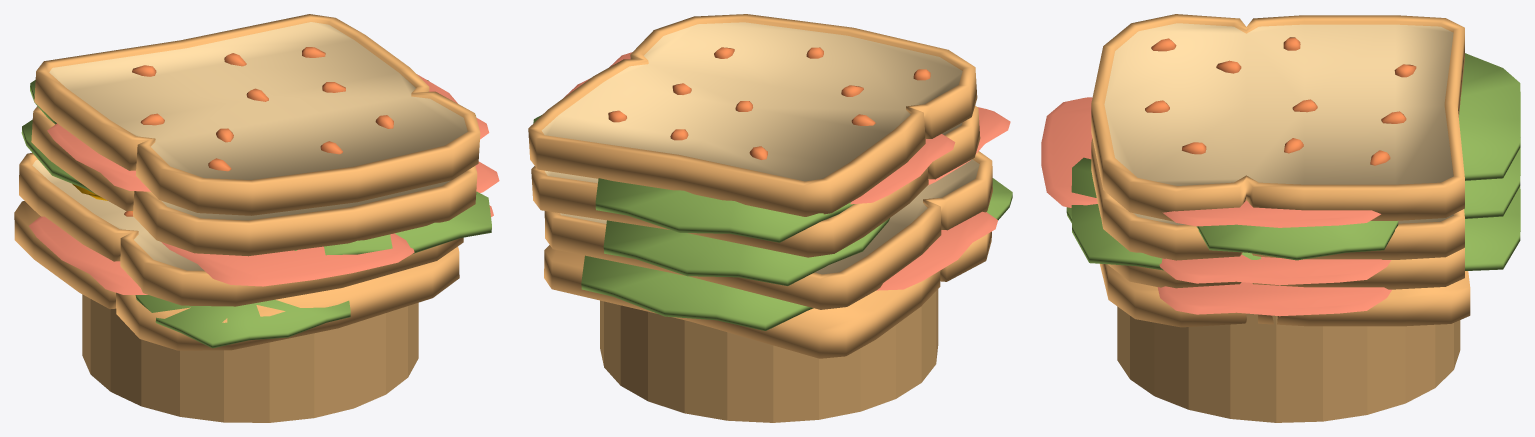
The model's file is kapa sendvic.fbx.
The picture shows the model from 3 angles, left to right: view 1: azimuth 30°, elevation 25°; view 2: azimuth 150°, elevation 25°; view 3: azimuth 270°, elevation 25°; orthographic projection. The views are drawn at different scales.
Visible parts, largest first — view 1: sesame_bread.003, Cylinder, sesame_bread.002, sesame_bread.001, flat_bread.001, leaf__1_.001, cream.002, leaf__1_.002, cream.001, cream.003, leaf.002, cream__1_.002; view 2: sesame_bread.003, Cylinder, sesame_bread.001, flat_bread.001, sesame_bread.002, leaf.002, leaf.001, leaf.003, cream.001, cream.003, cream.002, leaf__1_.001; view 3: sesame_bread.003, Cylinder, flat_bread.001, sesame_bread.002, leaf.003, cream__1_.001, leaf__1_.003, cream__1_.002, sesame_bread.001, cream.002, leaf__1_.002, cream__1_.003 (+2 smaller).
Boxes of the visible parts, x1=… form: sesame_bread.003: x1=34, y1=14, x2=480, y2=215; Cylinder: x1=82, y1=294, x2=418, y2=422; sesame_bread.002: x1=31, y1=106, x2=477, y2=256; sesame_bread.001: x1=19, y1=153, x2=463, y2=306; flat_bread.001: x1=14, y1=201, x2=459, y2=350; leaf__1_.001: x1=135, y1=295, x2=350, y2=348; cream.002: x1=161, y1=233, x2=414, y2=286; leaf__1_.002: x1=294, y1=191, x2=491, y2=255; cream.001: x1=29, y1=216, x2=147, y2=294; cream.003: x1=47, y1=123, x2=150, y2=191; leaf.002: x1=21, y1=119, x2=98, y2=195; cream__1_.002: x1=475, y1=161, x2=499, y2=192; sesame_bread.003: x1=528, y1=14, x2=977, y2=216; Cylinder: x1=600, y1=289, x2=938, y2=422; sesame_bread.001: x1=544, y1=151, x2=992, y2=309; flat_bread.001: x1=544, y1=231, x2=991, y2=358; sesame_bread.002: x1=531, y1=105, x2=980, y2=257; leaf.002: x1=603, y1=218, x2=889, y2=285; leaf.001: x1=581, y1=255, x2=813, y2=330; leaf.003: x1=595, y1=178, x2=854, y2=242; cream.001: x1=876, y1=211, x2=997, y2=290; cream.003: x1=850, y1=134, x2=955, y2=204; cream.002: x1=928, y1=107, x2=1010, y2=185; leaf__1_.001: x1=987, y1=178, x2=1012, y2=220; sesame_bread.003: x1=1091, y1=14, x2=1464, y2=221; Cylinder: x1=1117, y1=306, x2=1460, y2=422; flat_bread.001: x1=1100, y1=264, x2=1470, y2=327; sesame_bread.002: x1=1091, y1=138, x2=1464, y2=260; leaf.003: x1=1459, y1=53, x2=1520, y2=180; cream__1_.001: x1=1157, y1=282, x2=1391, y2=316; leaf__1_.003: x1=1196, y1=221, x2=1398, y2=260; cream__1_.002: x1=1159, y1=254, x2=1391, y2=285; sesame_bread.001: x1=1107, y1=247, x2=1464, y2=289; cream.002: x1=1041, y1=97, x2=1097, y2=207; leaf__1_.002: x1=1071, y1=157, x2=1261, y2=270; cream__1_.003: x1=1162, y1=200, x2=1380, y2=227.
Bounding box in the file's own units: 176 × 110 × 181.
Materials: 2 (1 with a texture image).
